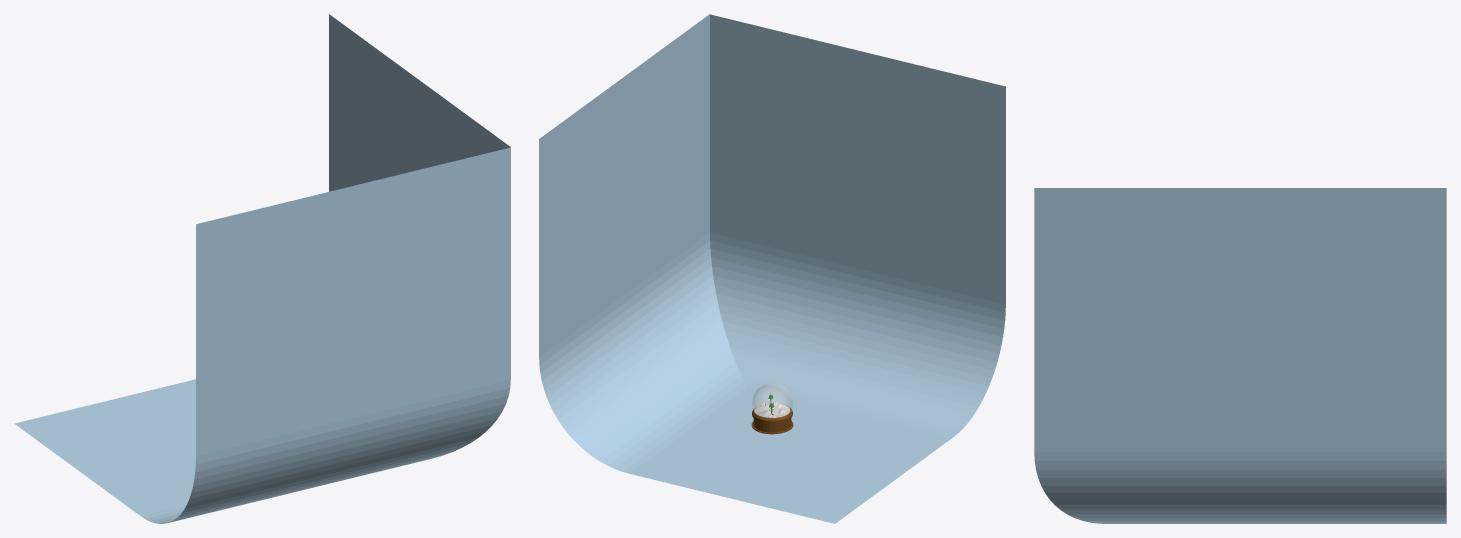
Rendered from snowy.gltf.
The picture shows the model from 3 angles, left to right: view 1: azimuth 30°, elevation 25°; view 2: azimuth 150°, elevation 25°; view 3: azimuth 270°, elevation 25°; orthographic projection. The views are drawn at different scales.
Visible parts, largest first — view 1: Plane; view 2: Plane, Sphere, Cylinder.002; view 3: Plane.
Part boxes in pixels (<box>): Plane: <box>14,14,510,523</box>; Plane: <box>539,14,1005,523</box>; Sphere: <box>752,383,792,418</box>; Cylinder.002: <box>751,402,793,434</box>; Plane: <box>1034,188,1446,523</box>.
Size of the model in its own units: 298 by 301 by 298.
